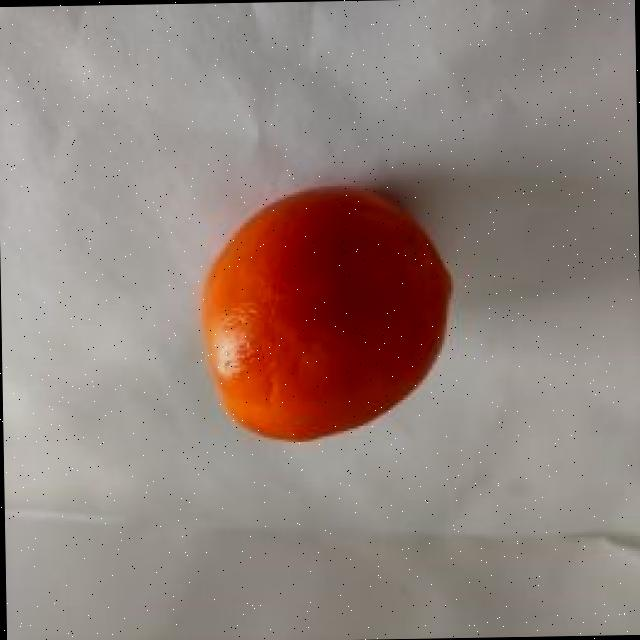Ripe: (198, 182, 459, 446)
